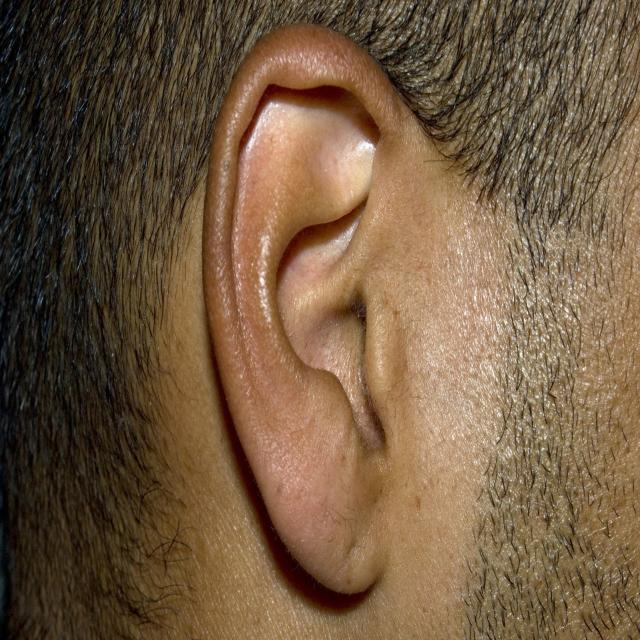earlobe: (201, 24, 396, 598)
